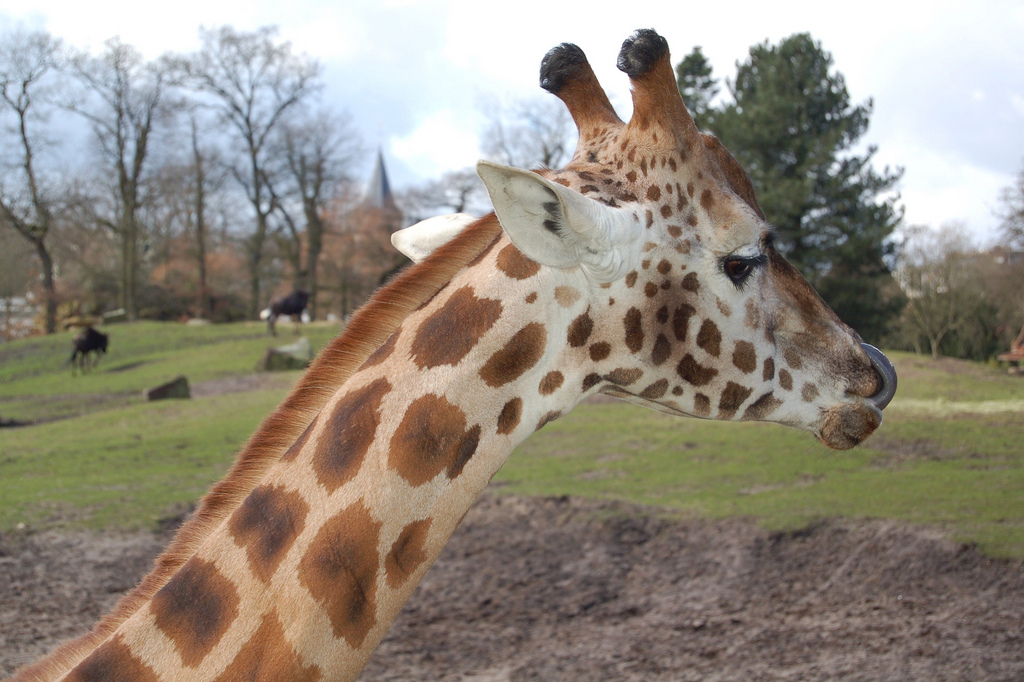giraffe: (166, 60, 889, 619)
